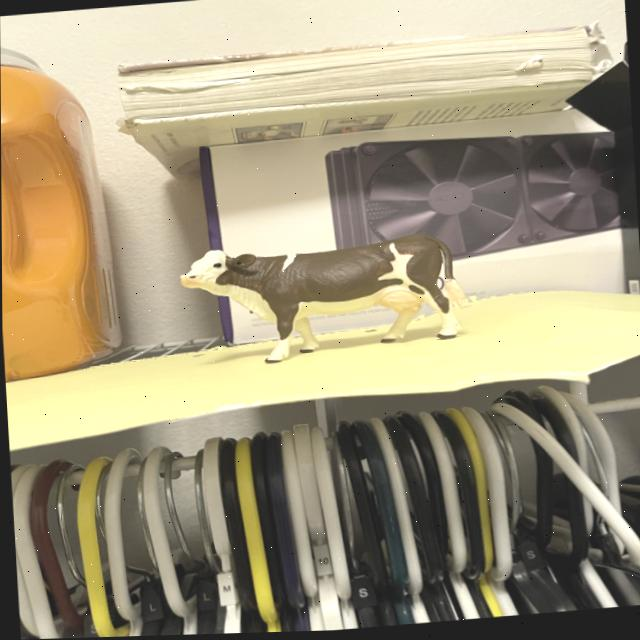cow: (178, 227, 460, 373), (190, 265, 195, 271)
